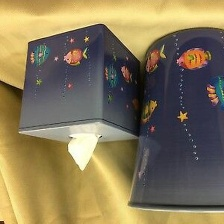plastic_box: (120, 21, 224, 218), (12, 18, 146, 148)
tissue: (62, 129, 104, 175)
